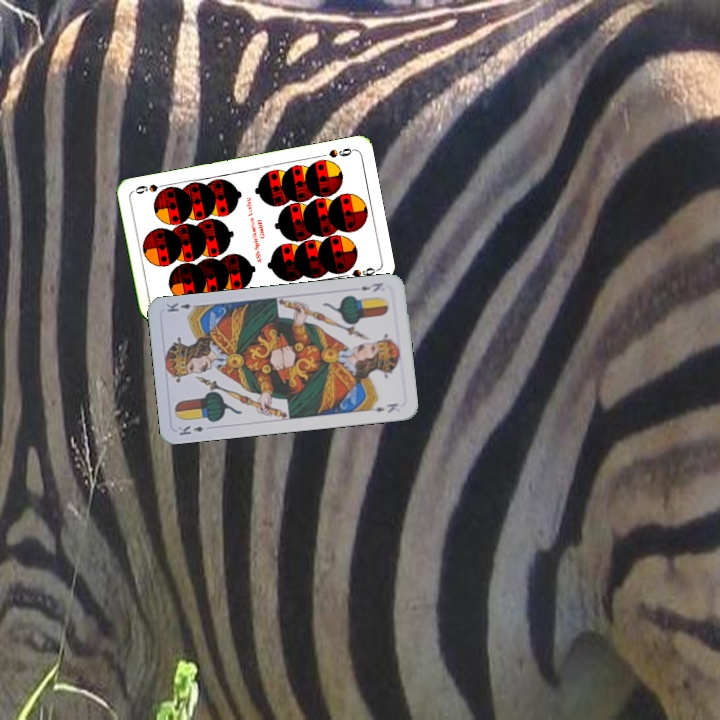EK: (174, 422, 206, 438), (357, 278, 386, 295)
S9: (325, 144, 357, 160)
